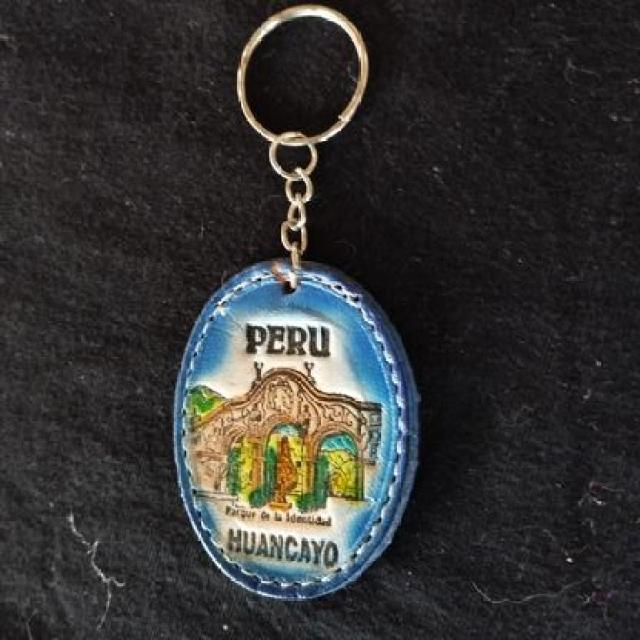Llavero: (172, 257, 420, 601)
